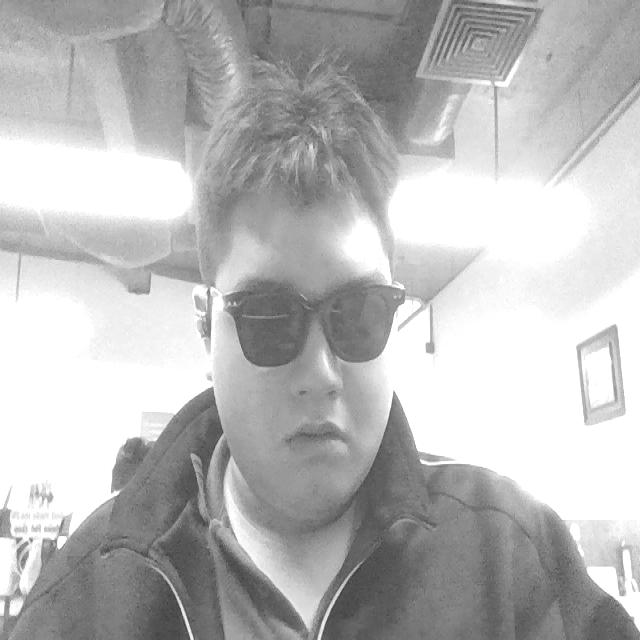fake: (212, 283, 409, 369)
real: (204, 113, 406, 516)
